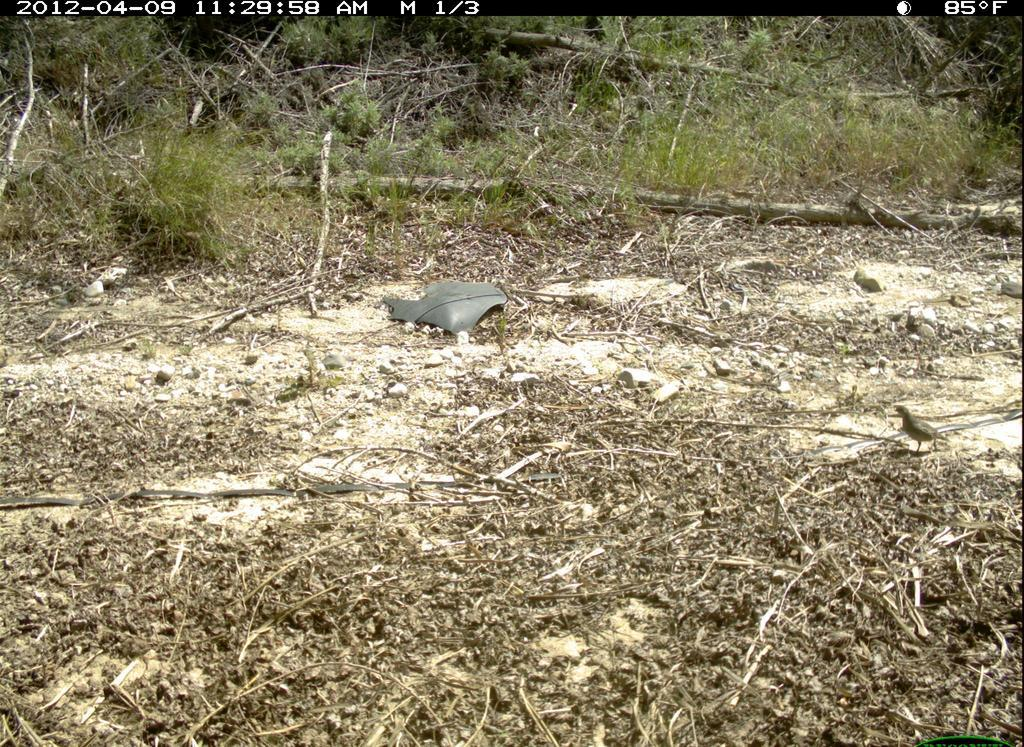bird: (891, 402, 952, 465)
